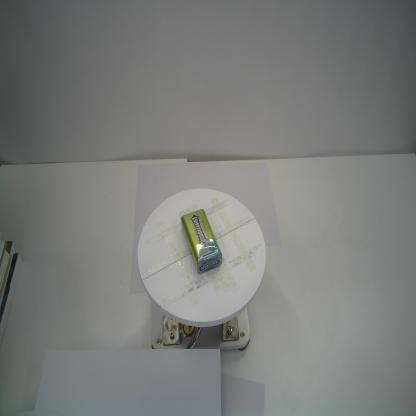Gum: (180, 207, 223, 276)
